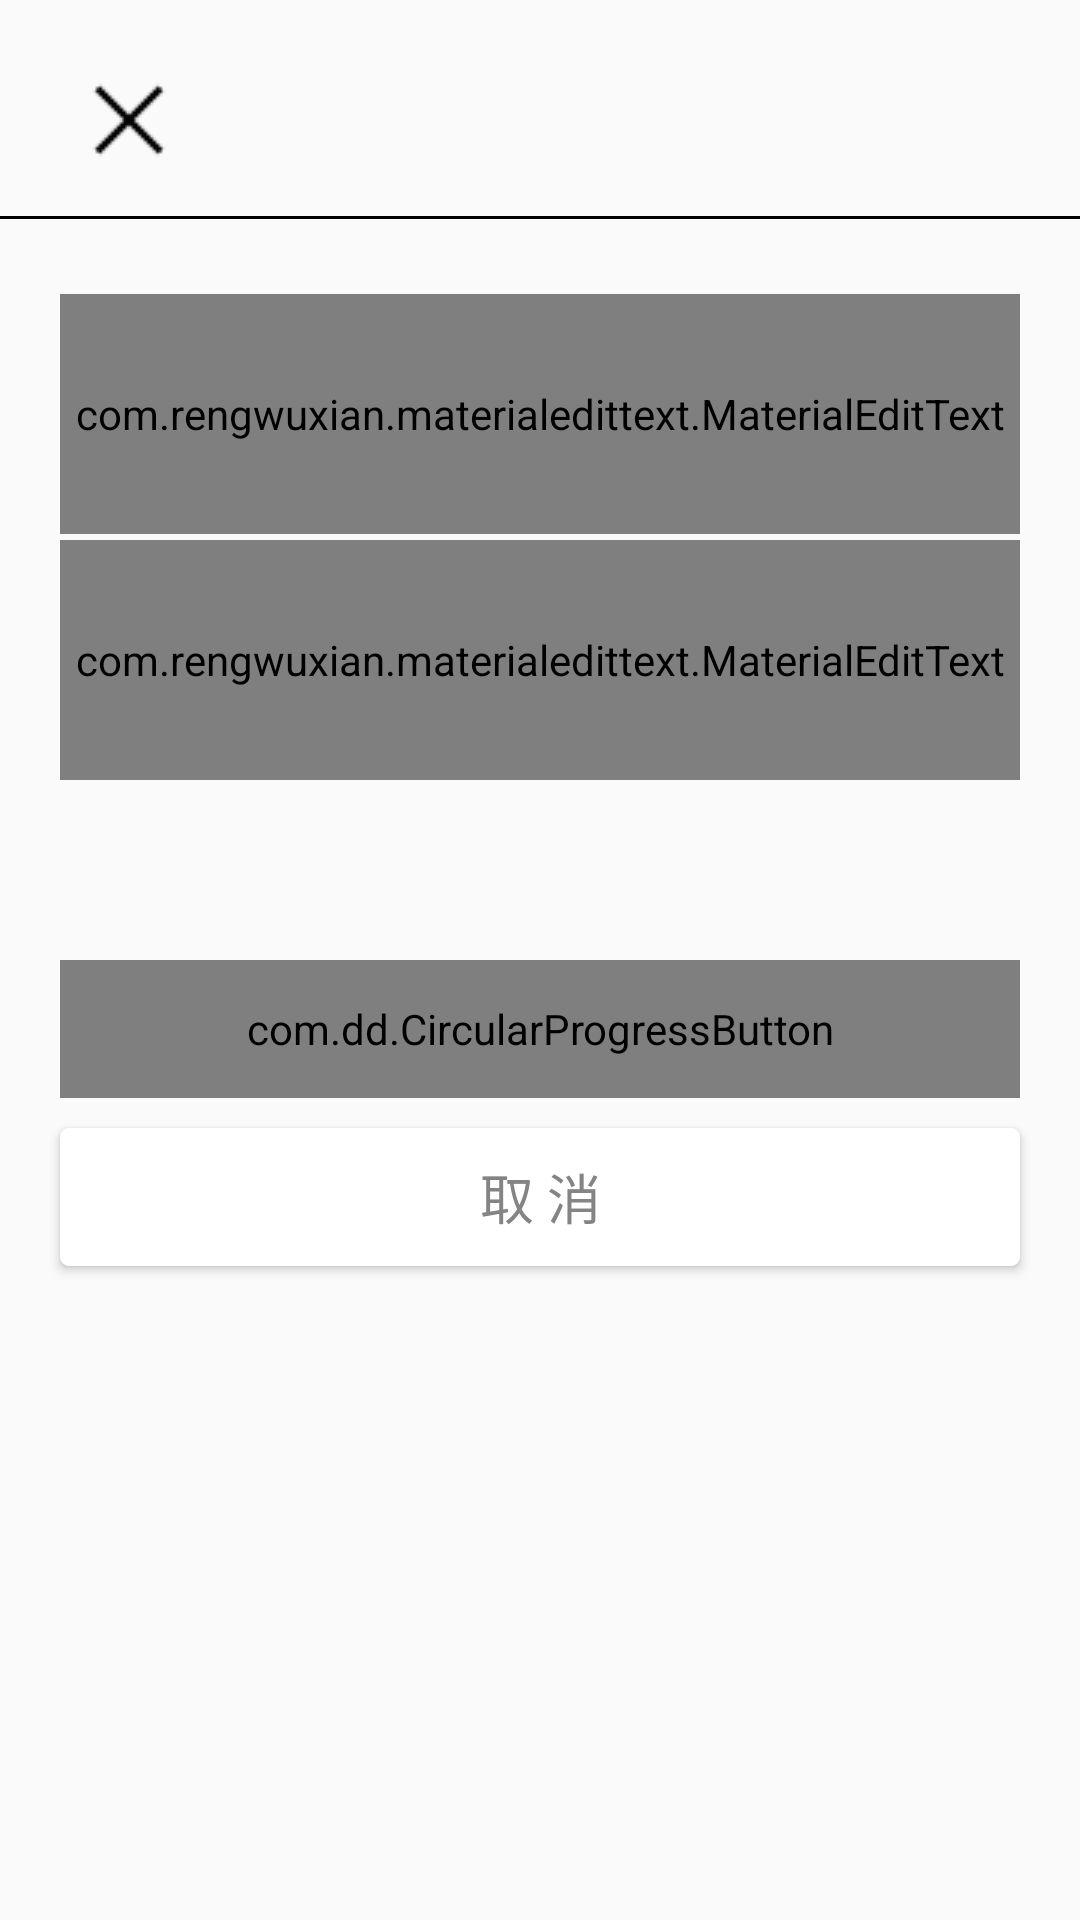

Where to tap for icons on this 1080x1920 app screen, as [x,y]:
close: [129,120]
